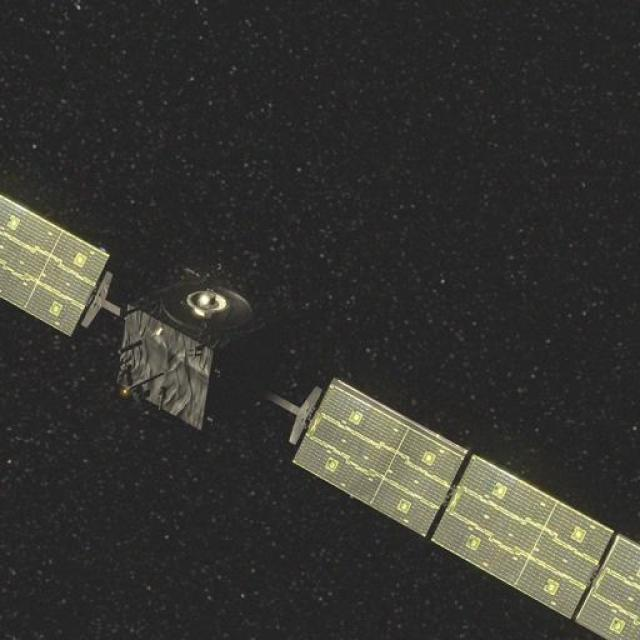smart_1: (0, 151, 500, 527)
